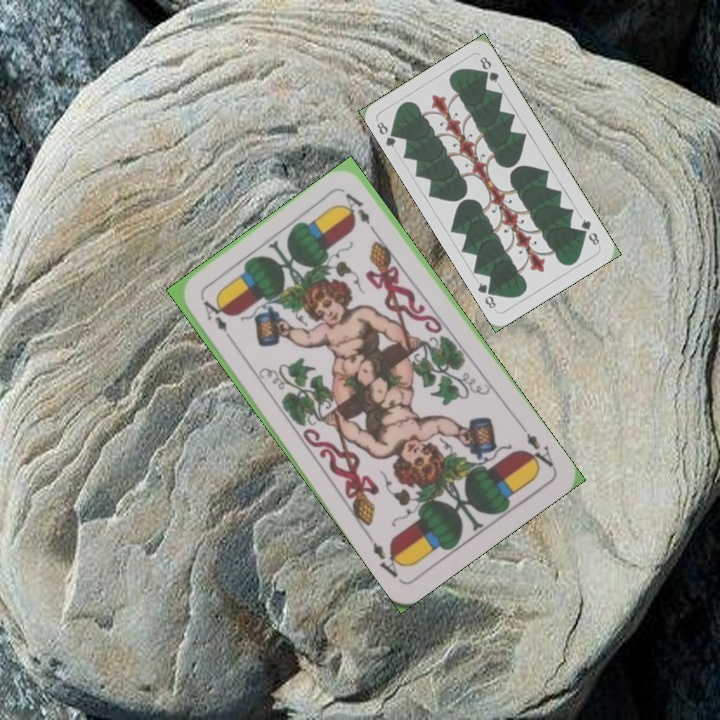EA: (197, 293, 237, 345), (521, 428, 556, 473)
G8: (372, 117, 401, 150), (577, 215, 602, 248)
